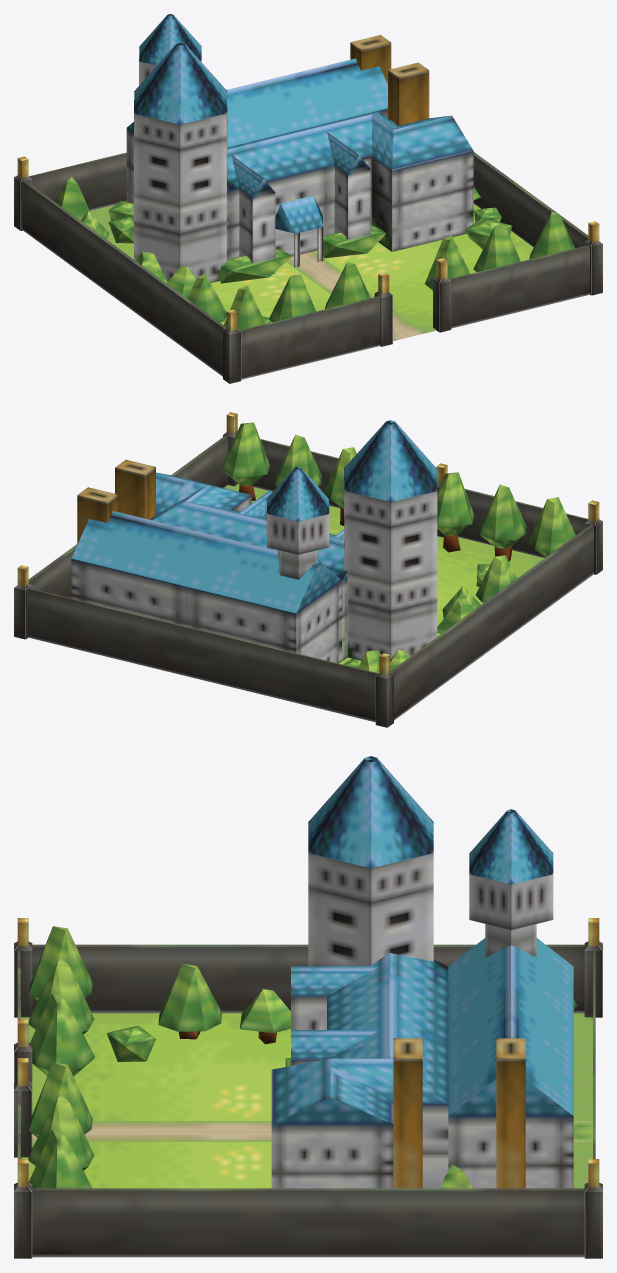
Rendered from Poly_World_Map_Mansion_01.obj.
3 renders of one model, top to bottom at view 1: azimuth 30°, elevation 25°; view 2: azimuth 150°, elevation 25°; view 3: azimuth 270°, elevation 25°, orthographic. The views are drawn at different scales.
Visible parts, largest first — view 1: Grid, Grid.006_Grid.007, Grid.003_Grid.004, Cube.001_Cube.001, Grid.010_Grid.011, Grid.005_Grid.006, Grid.007_Grid.008, Grid.011_Grid.012, Grid.001_Grid.002, Grid.002_Grid.003, Grid.004_Grid.005, Grid.008_Grid.009; view 2: Grid, Grid.005_Grid.006, Grid.003_Grid.004, Cube.001_Cube.001, Grid.006_Grid.007, Grid.004_Grid.005, Grid.010_Grid.011, Grid.001_Grid.002, Grid.011_Grid.012, Grid.007_Grid.008; view 3: Grid, Grid.010_Grid.011, Grid.006_Grid.007, Grid.005_Grid.006, Grid.003_Grid.004, Cube.001_Cube.001, Grid.004_Grid.005, Grid.011_Grid.012, Grid.001_Grid.002, Grid.007_Grid.008, Grid.002_Grid.003.
Part boxes in pixels (left/top/right/bottom): Grid: left=23, top=152, right=589, bottom=379; Grid.006_Grid.007: left=227, top=111, right=473, bottom=259; Grid.003_Grid.004: left=134, top=43, right=227, bottom=282; Cube.001_Cube.001: left=54, top=176, right=575, bottom=330; Grid.010_Grid.011: left=90, top=204, right=533, bottom=340; Grid.005_Grid.006: left=126, top=58, right=387, bottom=203; Grid.007_Grid.008: left=231, top=132, right=370, bottom=273; Grid.011_Grid.012: left=350, top=35, right=429, bottom=125; Grid.001_Grid.002: left=14, top=156, right=602, bottom=383; Grid.002_Grid.003: left=374, top=258, right=451, bottom=346; Grid.004_Grid.005: left=139, top=14, right=201, bottom=85; Grid.008_Grid.009: left=275, top=195, right=323, bottom=233; Grid: left=28, top=435, right=593, bottom=722; Grid.005_Grid.006: left=71, top=511, right=341, bottom=663; Grid.003_Grid.004: left=344, top=420, right=437, bottom=660; Cube.001_Cube.001: left=70, top=422, right=575, bottom=673; Grid.006_Grid.007: left=150, top=472, right=347, bottom=660; Grid.004_Grid.005: left=266, top=466, right=329, bottom=579; Grid.010_Grid.011: left=224, top=483, right=544, bottom=664; Grid.001_Grid.002: left=14, top=412, right=602, bottom=727; Grid.011_Grid.012: left=77, top=459, right=155, bottom=544; Grid.007_Grid.008: left=238, top=490, right=343, bottom=538; Grid: left=17, top=944, right=595, bottom=1257; Grid.010_Grid.011: left=21, top=1013, right=592, bottom=1188; Grid.006_Grid.007: left=271, top=953, right=448, bottom=1188; Grid.005_Grid.006: left=448, top=938, right=573, bottom=1188; Grid.003_Grid.004: left=308, top=756, right=433, bottom=966; Cube.001_Cube.001: left=28, top=926, right=577, bottom=1188; Grid.004_Grid.005: left=469, top=809, right=553, bottom=957; Grid.011_Grid.012: left=393, top=1038, right=525, bottom=1188; Grid.001_Grid.002: left=14, top=918, right=602, bottom=1258; Grid.007_Grid.008: left=291, top=966, right=378, bottom=1065; Grid.002_Grid.003: left=14, top=1019, right=32, bottom=1157.
Bounding box in the file's own units: 1.6 × 0.9148 × 1.6.
Materials: 1 (1 with a texture image).
